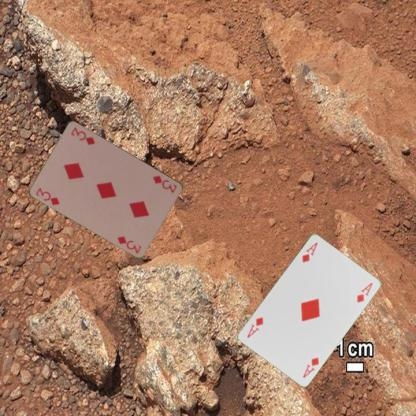3d: (150, 173, 179, 194), (33, 185, 61, 206)
Ad: (299, 239, 319, 264), (300, 355, 320, 379)
